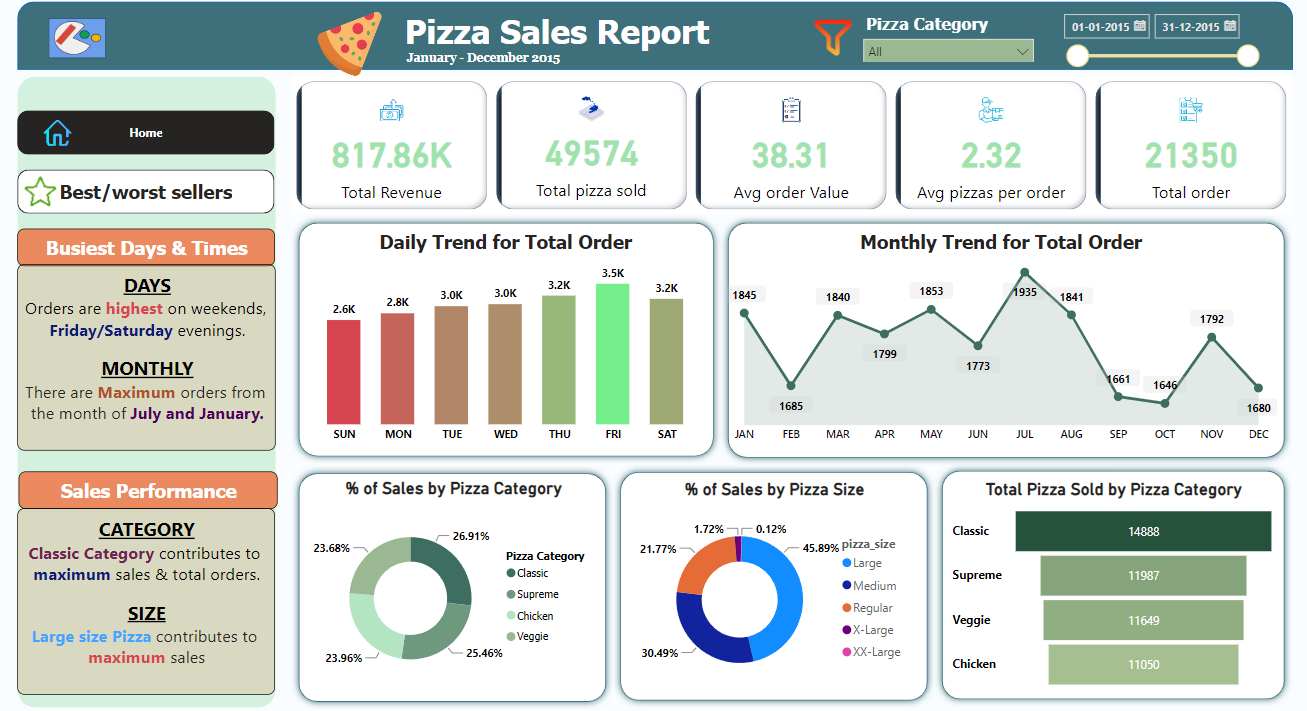

What the dashboard file says about the page in this screenshot:
{"tool":"powerbi","page":{"name":"Home","canvas":[1500,820],"ordinal":0},"visuals":[{"type":"shape","box":[25.3,92.4,293.6,716.9],"z":0},{"type":"cardVisual","fields":{"Data":["pizza_sales.Total_Revenue","pizza_sales.Total_pizza_sold","pizza_sales.Avg_order","pizza_sales.Avg_pizzas_per_order","pizza_sales.Total order"]},"box":[336.9,92.4,1135.8,156.5],"z":1000},{"type":"shape","box":[25.3,7.5,1448.8,77.5],"z":2000},{"type":"textbox","box":[451.6,13.4,372.6,58.1],"z":3000},{"type":"image","box":[359.2,7.5,86.5,95.4],"z":4000},{"type":"textbox","box":[457.6,56.6,193.8,32.8],"z":5000},{"type":"shape","box":[336.9,250.4,487.4,281.7],"z":6000},{"type":"columnChart","title":"Daily Trend for Total Order","fields":{"Category":["pizza_sales.Order_day"],"Y":["pizza_sales.Total order"]},"box":[347.3,266.8,465,250.4],"z":7000},{"type":"shape","box":[824.3,250.4,648.4,283.2],"z":8000},{"type":"areaChart","title":"Monthly Trend for Total Order","fields":{"Category":["pizza_sales.Order Month"],"Y":["pizza_sales.Total order"]},"box":[824.3,266.8,636.5,250.4],"z":9000},{"type":"shape","box":[336.9,535.1,365.2,275.7],"z":10000},{"type":"shape","box":[702,533.6,365.2,275.7],"z":11000},{"type":"shape","box":[1067.2,532.1,405.4,275.7],"z":12000},{"type":"donutChart","title":"% of Sales by Pizza Category","fields":{"Category":["pizza_sales.pizza_category"],"Y":["pizza_sales.Total Revenue"]},"box":[357.7,548.5,326.4,250.4],"z":13000},{"type":"donutChart","title":"% of Sales by Pizza Size","fields":{"Y":["pizza_sales.Total Revenue"],"Category":["pizza_sales.pizza_size"]},"box":[724.4,550,322,250.4],"z":14000},{"type":"funnel","title":"Total Pizza Sold by Pizza Category","fields":{"Category":["pizza_sales.pizza_category"],"Y":["pizza_sales.Total pizza sold"]},"box":[1082.1,550,377.1,243],"z":15000},{"type":"textbox","box":[26,265.1,292.4,42.4],"z":16000},{"type":"textbox","box":[25.3,305.6,293.6,211.7],"z":17000},{"type":"textbox","box":[27.3,541.1,293.8,42.4],"z":18000},{"type":"textbox","box":[26,583.4,292.4,211.8],"z":19000},{"type":"slicer","fields":{"Values":["pizza_sales.order_date"]},"box":[1201.4,11.9,243,77.5],"z":20000},{"type":"slicer","fields":{"Values":["pizza_sales.pizza_category"]},"box":[976.3,14.9,213.1,61.1],"z":21000},{"type":"pageNavigator","box":[25.3,131.2,292.1,50.7],"z":22000},{"type":"pageNavigator","box":[25.3,198.2,292.1,50.7],"z":23000},{"type":"image","box":[44.7,135.6,52.2,41.7],"z":24000},{"type":"image","box":[916.7,11.9,70.1,71.5],"z":25000},{"type":"image","box":[26.8,199.7,49.2,46.2],"z":26000},{"type":"image","box":[8.9,4.5,165.4,87.9],"z":26001}]}

Visuals, with their boxes in screenshot pixels (x1, y1, x2, y2), scaled from the page's 1500x820 canvas onto the 1307x711 screenshot:
shape: 22/80/278/702
cardVisual - pizza_sales.Total_Revenue x pizza_sales.Total_pizza_sold: 294/80/1283/216
shape: 22/7/1284/74
textbox: 393/12/718/62
image: 313/7/388/89
textbox: 399/49/568/78
shape: 294/217/718/461
"Daily Trend for Total Order" columnChart: 303/231/708/448
shape: 718/217/1283/463
"Monthly Trend for Total Order" areaChart: 718/231/1273/448
shape: 294/464/612/703
shape: 612/463/930/702
shape: 930/461/1283/700
"% of Sales by Pizza Category" donutChart: 312/476/596/693
"% of Sales by Pizza Size" donutChart: 631/477/912/694
"Total Pizza Sold by Pizza Category" funnel: 943/477/1271/688
textbox: 23/230/277/267
textbox: 22/265/278/449
textbox: 24/469/280/506
textbox: 23/506/277/689
slicer - pizza_sales.order_date: 1047/10/1259/78
slicer - pizza_sales.pizza_category: 851/13/1036/66
pageNavigator: 22/114/277/158
pageNavigator: 22/172/277/216
image: 39/118/84/154
image: 799/10/860/72
image: 23/173/66/213
image: 8/4/152/80
